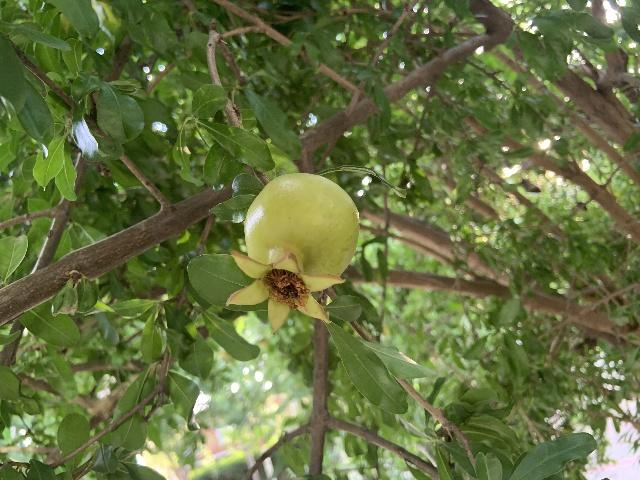mid-growth: (225, 172, 359, 336)
